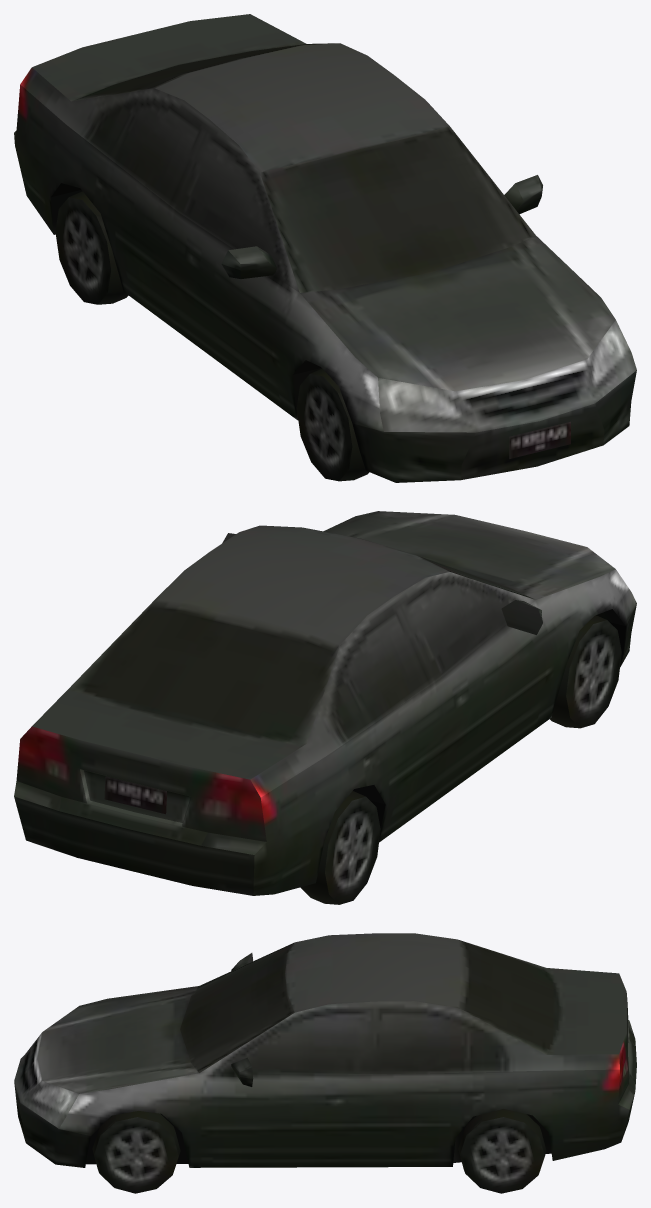
The model's file is psx-sedan.glb.
The picture shows the model from 3 angles, top to bottom: view 1: azimuth 30°, elevation 25°; view 2: azimuth 150°, elevation 25°; view 3: azimuth 270°, elevation 25°; orthographic projection. The views are drawn at different scales.
Parts seen in each view (by area): view 1: body.cvc, cvc_wheel.001, cvc_wheel; view 2: body.cvc, cvc_wheel.001, cvc_wheel; view 3: body.cvc, cvc_wheel.002, cvc_wheel.003.
Boxes of the visible parts, left/top/right/bottom form: body.cvc: left=14, top=14, right=636, bottom=482; cvc_wheel.001: left=55, top=191, right=128, bottom=304; cvc_wheel: left=296, top=368, right=369, bottom=481; body.cvc: left=14, top=511, right=636, bottom=895; cvc_wheel.001: left=300, top=791, right=380, bottom=904; cvc_wheel: left=550, top=615, right=621, bottom=728; body.cvc: left=14, top=933, right=636, bottom=1167; cvc_wheel.002: left=458, top=1109, right=546, bottom=1193; cvc_wheel.003: left=92, top=1111, right=180, bottom=1193.
Bounding box in the file's own units: 2 × 1.42 × 4.41.
1 material, 1 textured.
